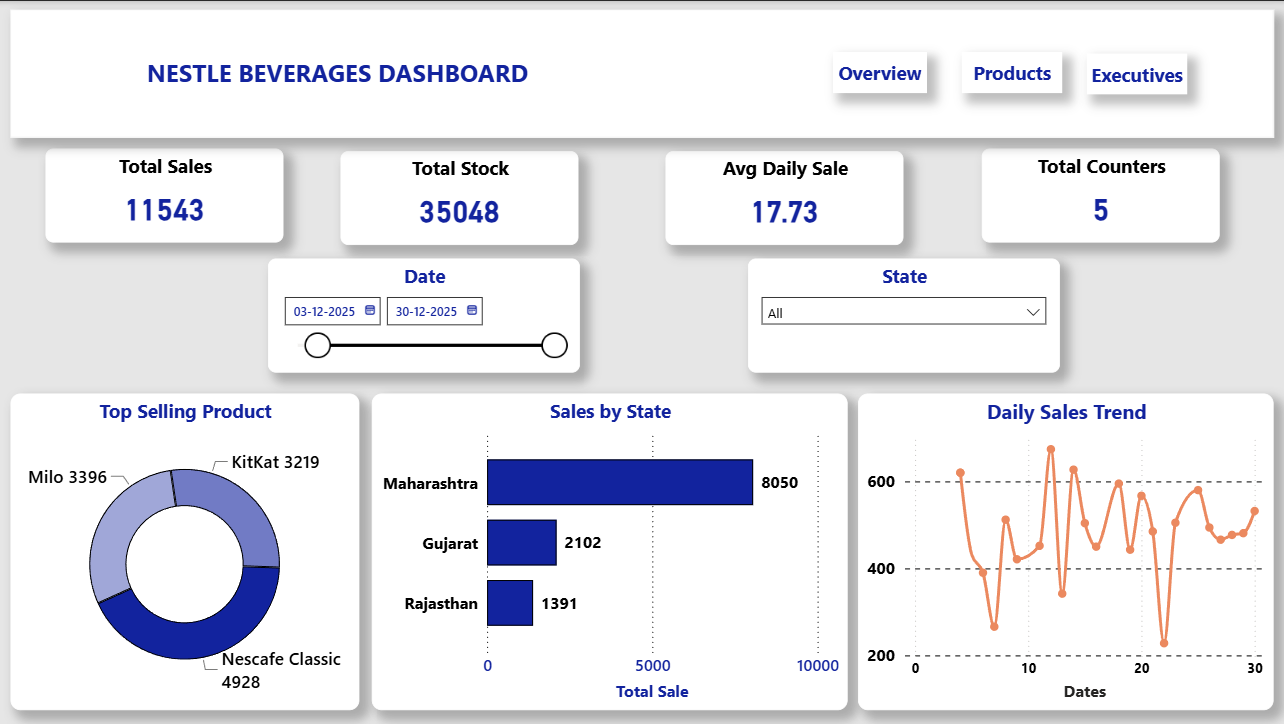

What the dashboard file says about the page in this screenshot:
{"tool":"powerbi","page":{"name":"Overview","canvas":[1280,720],"ordinal":0},"visuals":[{"type":"shape","box":[12.2,8.1,1257.2,127.4],"z":0,"group":"g1"},{"type":"card","title":"Total Sales","fields":{"Values":["Measures (2).Total Sale"]},"box":[47.1,147.4,237.1,93.5],"z":0},{"type":"card","title":"Total Stock","fields":{"Values":["Measures (2).Total Stock"]},"box":[341.1,148.7,237.1,93.5],"z":1000},{"type":"textbox","box":[142.3,48.7,398.3,42],"z":2000,"group":"g1"},{"type":"card","title":"Avg Daily Sale","fields":{"Values":["Measures (2).Avg Daily Sale"]},"box":[664.9,148.7,237.1,93.5],"z":2000},{"type":"card","title":"Total Counters","fields":{"Values":["Measures (2).Total Counters"]},"box":[979.2,147.4,237.1,93.5],"z":3000},{"type":"actionButton","title":"Overview","box":[830.5,50.1,93.5,40.6],"z":4000,"group":"g1"},{"type":"donutChart","title":"Top Selling Product","fields":{"Category":["West.Product"],"Y":["Measures (2).Total Sale"]},"box":[12.8,391.1,346.8,315.4],"z":4000},{"type":"clusteredBarChart","title":" Sales by State","fields":{"Category":["West.State"],"Y":["Measures (2).Total Sale"]},"box":[372.5,391.1,473.9,315.4],"z":5000},{"type":"actionButton","box":[959.2,50.1,100.3,40.6],"z":6000,"group":"g1"},{"type":"slicer","title":"Date","fields":{"Values":["West.Date"]},"box":[268.3,256.5,310.2,113.8],"z":6000},{"type":"slicer","title":"State","fields":{"Values":["West.State"]},"box":[746.6,256.5,310.2,113.8],"z":7000},{"type":"group","id":"g1","title":"Group 1","box":[12.2,8.1,1257.2,127.4],"z":8000},{"type":"actionButton","box":[1083.8,51.5,100.3,40.6],"z":8000,"group":"g1"},{"type":"lineChart","title":"Daily Sales Trend","fields":{"Category":["West.Date.Variation.Date Hierarchy.Day"],"Y":["Measures (2).Total Sale"]},"box":[856.4,391.1,413.9,315.4],"z":9000}]}

Visuals, with their boxes in screenshot pixels (x1, y1, x2, y2), scaled from the page's 1280x720 canvas onto the 1284x724 screenshot:
shape: Rect(12, 8, 1273, 136)
"Total Sales" card: Rect(47, 148, 285, 242)
"Total Stock" card: Rect(342, 150, 580, 244)
textbox: Rect(143, 49, 542, 91)
"Avg Daily Sale" card: Rect(667, 150, 905, 244)
"Total Counters" card: Rect(982, 148, 1220, 242)
"Overview" actionButton: Rect(833, 50, 927, 91)
"Top Selling Product" donutChart: Rect(13, 393, 361, 710)
" Sales by State" clusteredBarChart: Rect(374, 393, 849, 710)
actionButton: Rect(962, 50, 1063, 91)
"Date" slicer: Rect(269, 258, 580, 372)
"State" slicer: Rect(749, 258, 1060, 372)
"Group 1" group: Rect(12, 8, 1273, 136)
actionButton: Rect(1087, 52, 1188, 93)
"Daily Sales Trend" lineChart: Rect(859, 393, 1274, 710)
